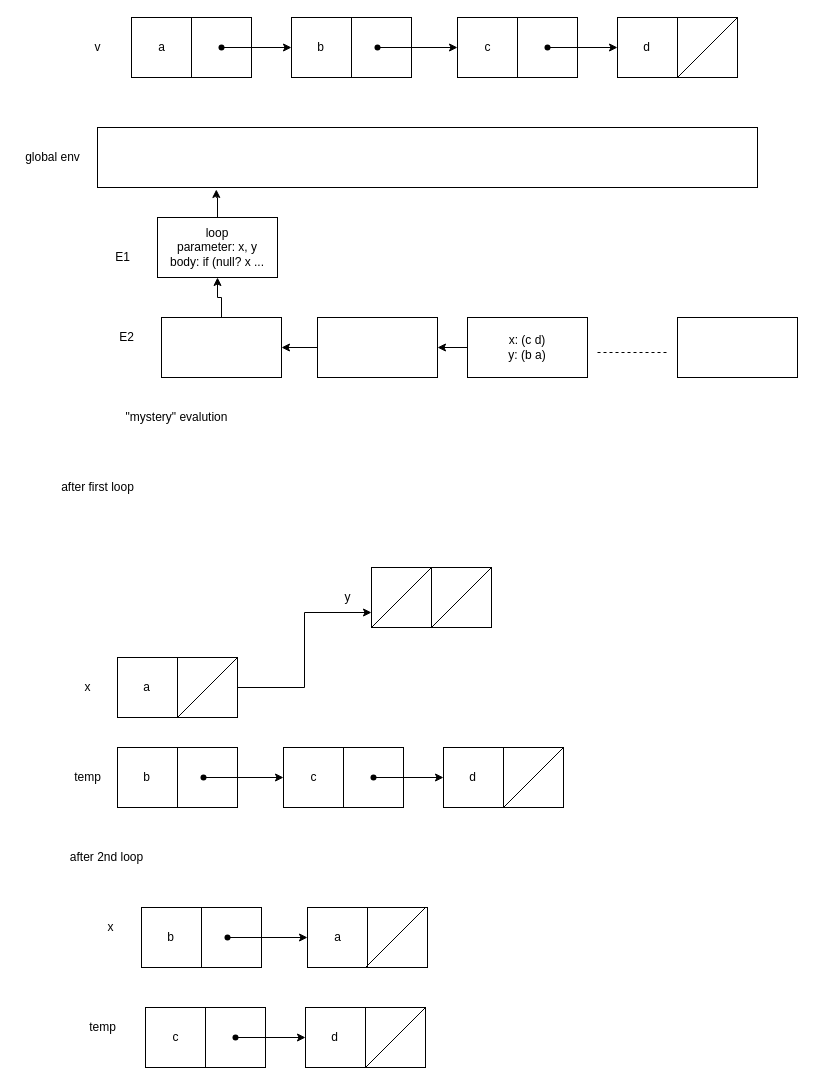
Some shapes in this 815 by 1086 pixel diagram are drawn without their labels. The box of each missing label's shape, as (x1, y1, x2, y2) in pixels:
mystery parameter: x: (96, 126, 758, 188)
x: '() y: (d c b a): (676, 316, 798, 378)
x: (a b c d) y: '(): (160, 316, 282, 378)
x: (b c d) y: (a): (316, 316, 438, 378)
